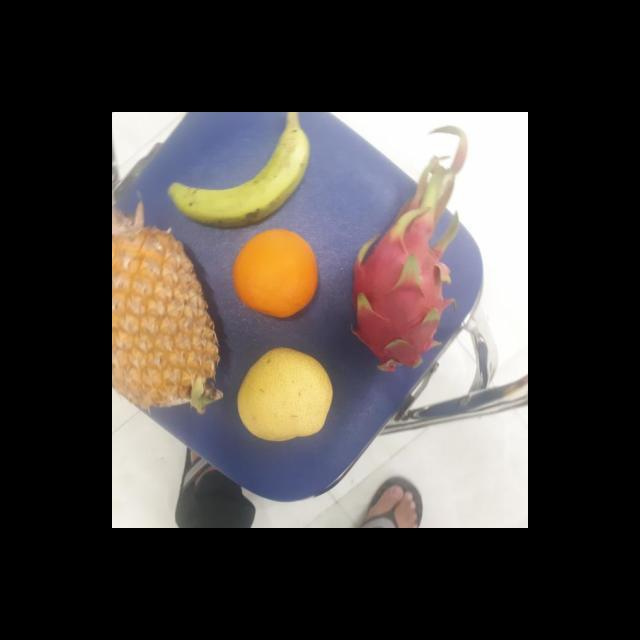banana: (167, 112, 307, 226)
guava: (230, 229, 320, 315)
pear: (234, 346, 336, 440)
pitaya: (348, 198, 453, 374)
